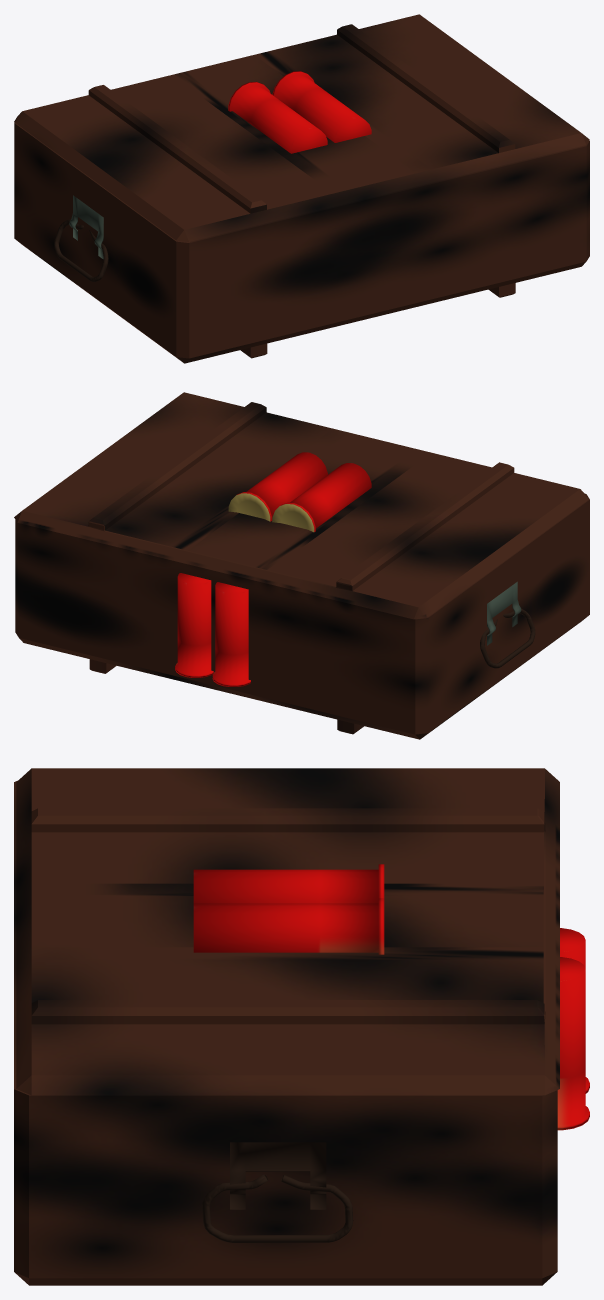
Rendered from Ammo_Shot.glb.
3 views of the same model, one above another, from view 1: azimuth 30°, elevation 25°; view 2: azimuth 150°, elevation 25°; view 3: azimuth 270°, elevation 25° (orthographic). The views are drawn at different scales.
Parts seen in each view (by area): view 1: AmmoS_bot, Ammo_top.001, AmmoS_Symbol_top, Handel_right.001, Ring_right.001; view 2: Ammo_top.001, AmmoS_bot, AmmoS_Symbol_bot, AmmoS_Symbol_top, Handel_right.001, Ring_right.001; view 3: Ammo_top.001, AmmoS_bot, AmmoS_Symbol_top, AmmoS_Symbol_bot, HandelR_left.001, Ring_left.001.
Part boxes in pixels (<box>): AmmoS_bot: <box>14,122,589,363</box>; Ammo_top.001: <box>14,14,589,241</box>; AmmoS_Symbol_top: <box>228,71,371,153</box>; Handel_right.001: <box>69,195,103,259</box>; Ring_right.001: <box>54,219,108,281</box>; Ammo_top.001: <box>14,392,588,619</box>; AmmoS_bot: <box>15,493,589,739</box>; AmmoS_Symbol_bot: <box>175,573,250,686</box>; AmmoS_Symbol_top: <box>228,452,371,532</box>; Handel_right.001: <box>487,581,521,645</box>; Ring_right.001: <box>480,608,535,668</box>; Ammo_top.001: <box>16,768,559,1095</box>; AmmoS_bot: <box>14,780,557,1285</box>; AmmoS_Symbol_top: <box>193,864,384,954</box>; AmmoS_Symbol_bot: <box>557,928,589,1130</box>; HandelR_left.001: <box>230,1142,326,1209</box>; Ring_left.001: <box>202,1174,353,1242</box>.
Bounding box in the file's own units: 2.04 × 0.7544 × 1.48.
4 materials, 4 textured.
